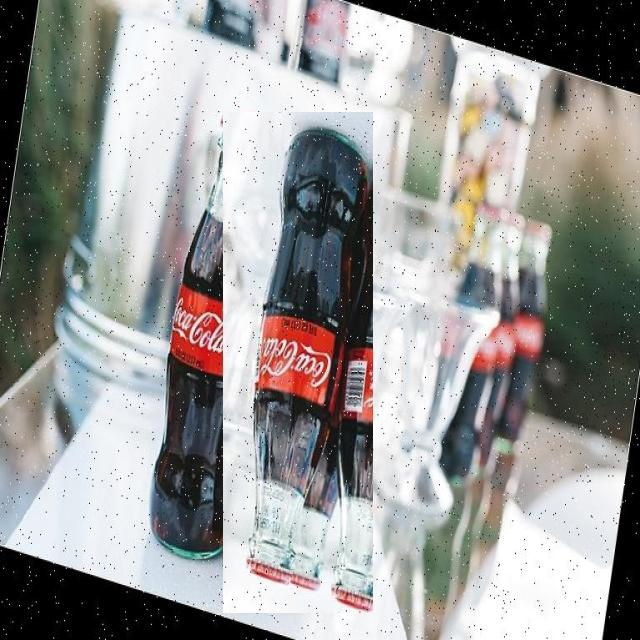coca-cola: (141, 85, 294, 584), (224, 112, 374, 613)
